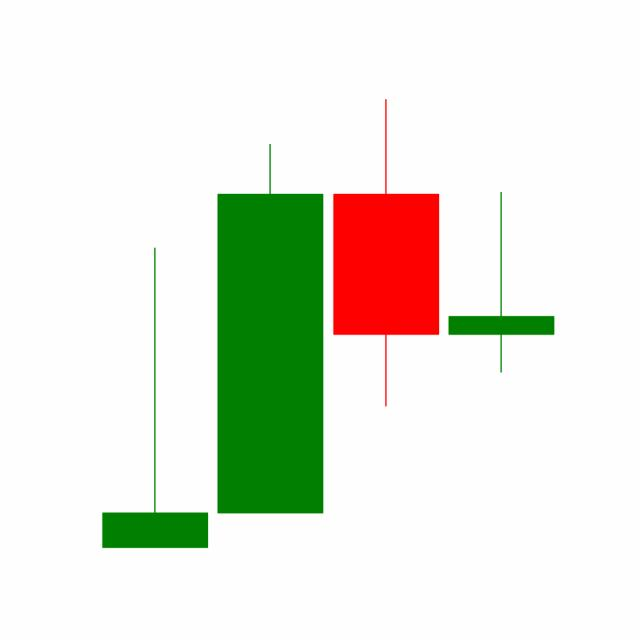Gravestone Doji: (443, 190, 559, 374)
